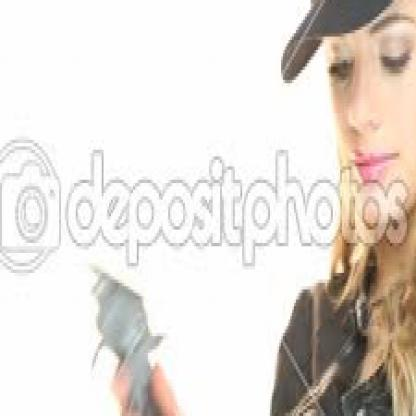gun: (63, 249, 183, 412)
